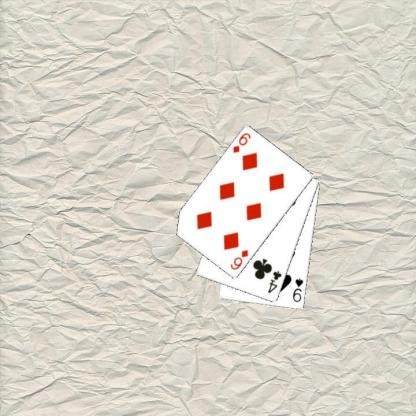4C: (265, 268, 283, 294)
6D: (228, 247, 250, 272), (230, 131, 252, 154)
9S: (290, 276, 305, 303)
